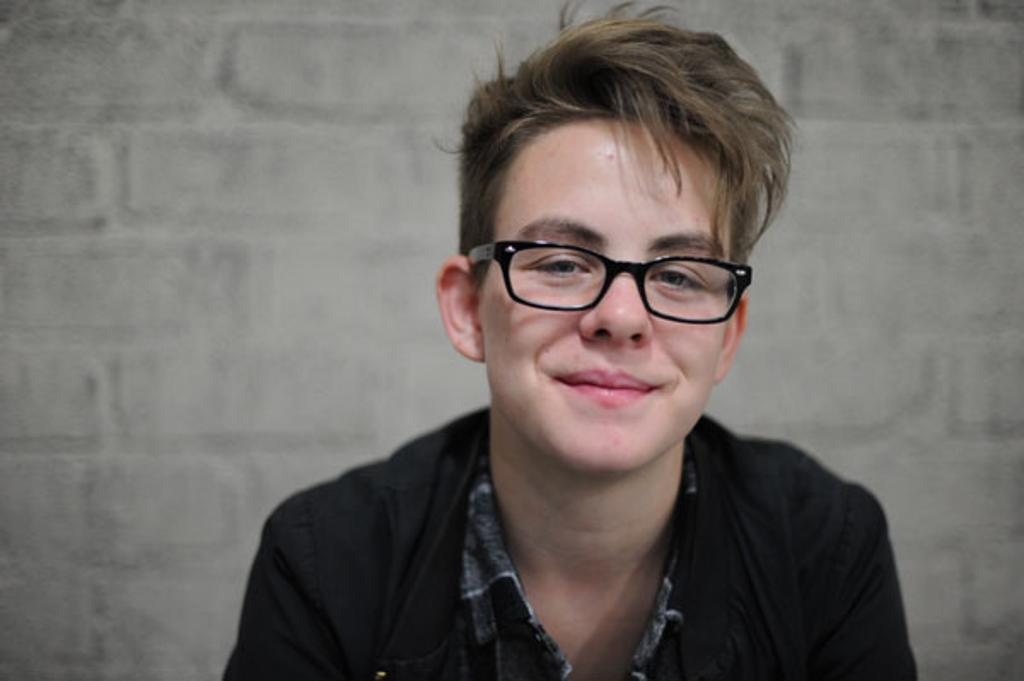face: (478, 120, 738, 470)
